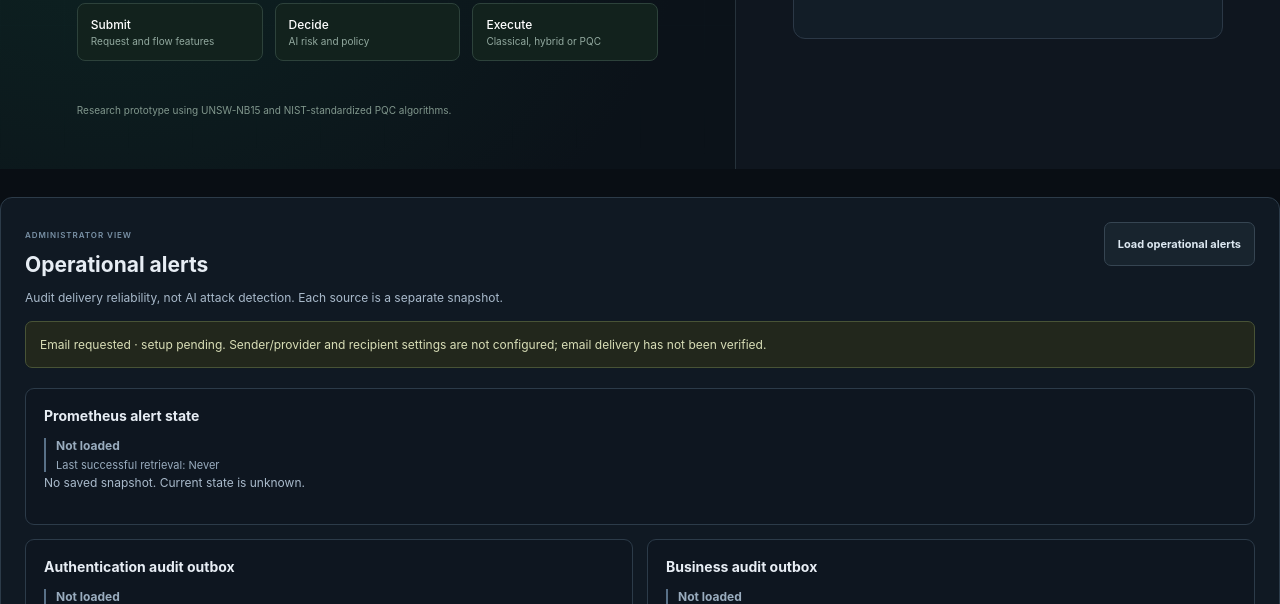
Test case: Operational snapshot access/session boundaries › clears privileged snapshots immediately on403 without waiting for a slow peer
(page scrolled)
Click the button "Load operational alerts".
click(1179, 244)  # box [1104, 222, 1255, 266]
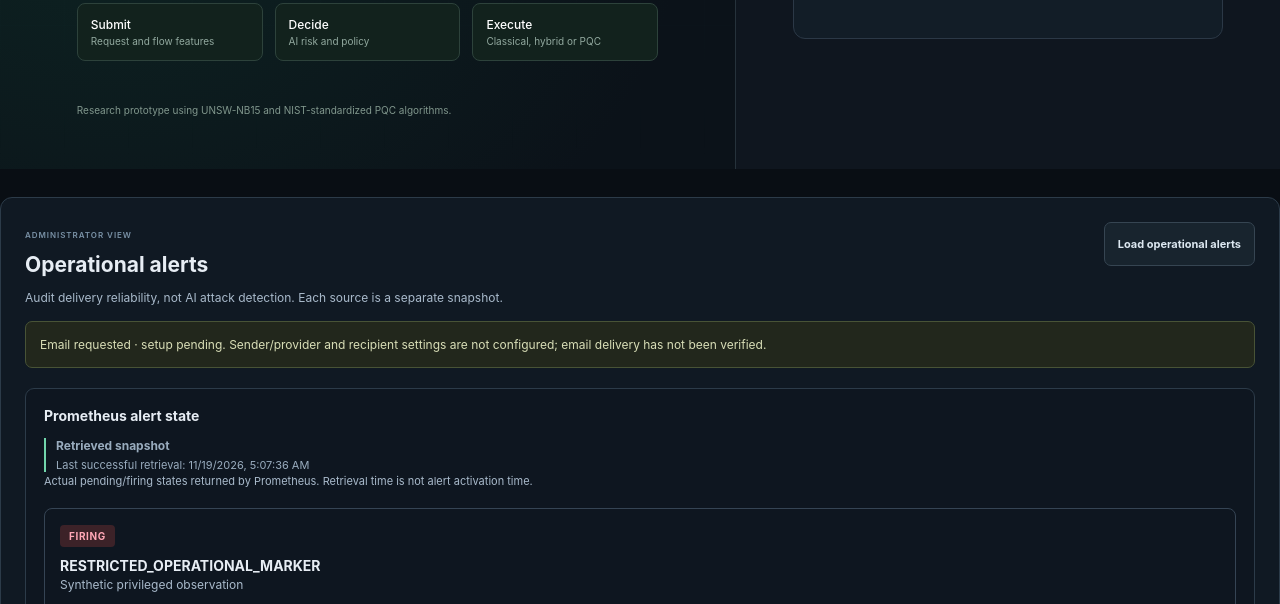
Now the heading "RESTRICTED_OPERATIONAL_MARKER" is shown, box [60, 557, 321, 574]
Click the button "Load operational alerts".
click(1179, 244)  # box [1104, 222, 1255, 266]
(page scrolled)
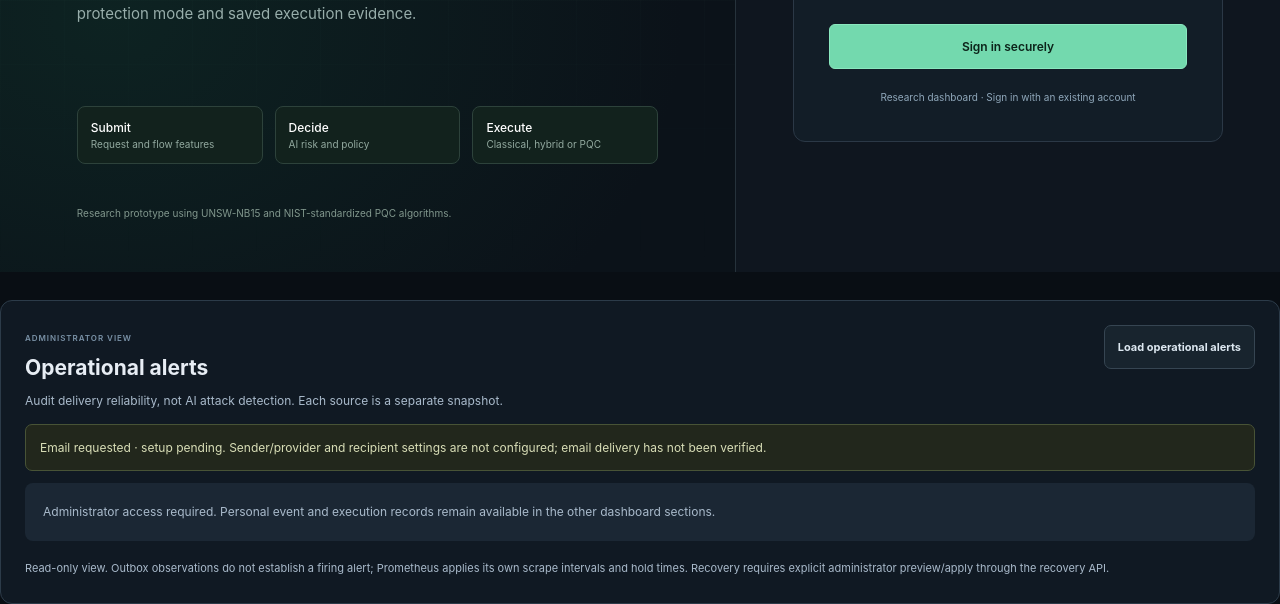
Expected: the button "Load operational alerts" is enabled, [1104, 325, 1255, 369]
Now the text "Administrator access required" is shown, box [43, 504, 715, 519]
Now the heading "RESTRICTED_OPERATIONAL_MARKER" is gone
